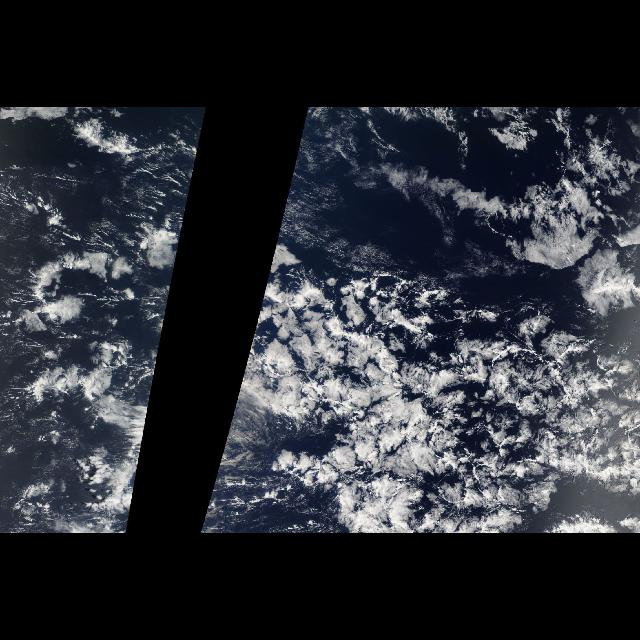Flower: (270, 248, 634, 530)
Sugar: (284, 160, 406, 272)
